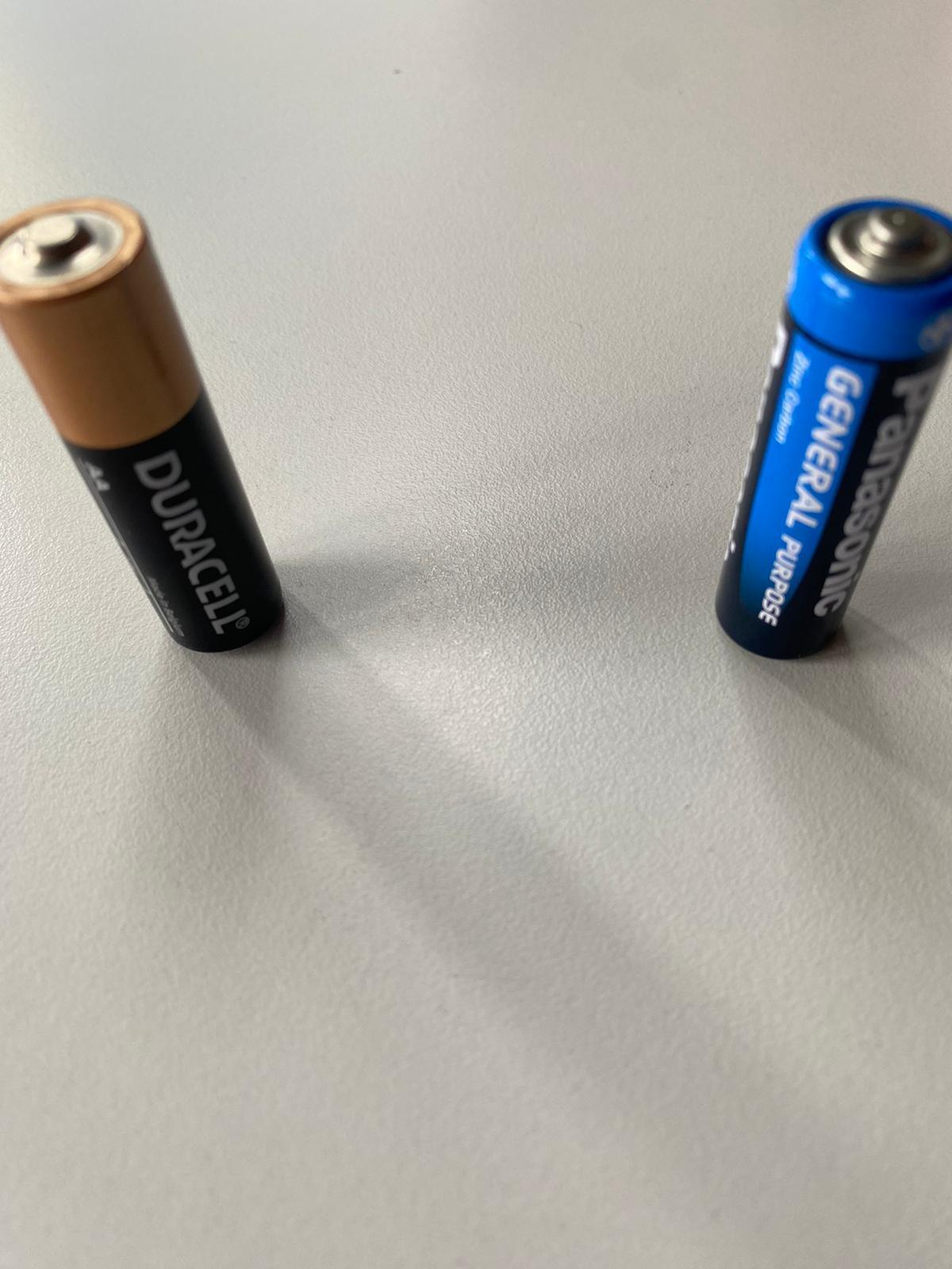AA: (0, 191, 300, 658), (707, 191, 951, 666)
